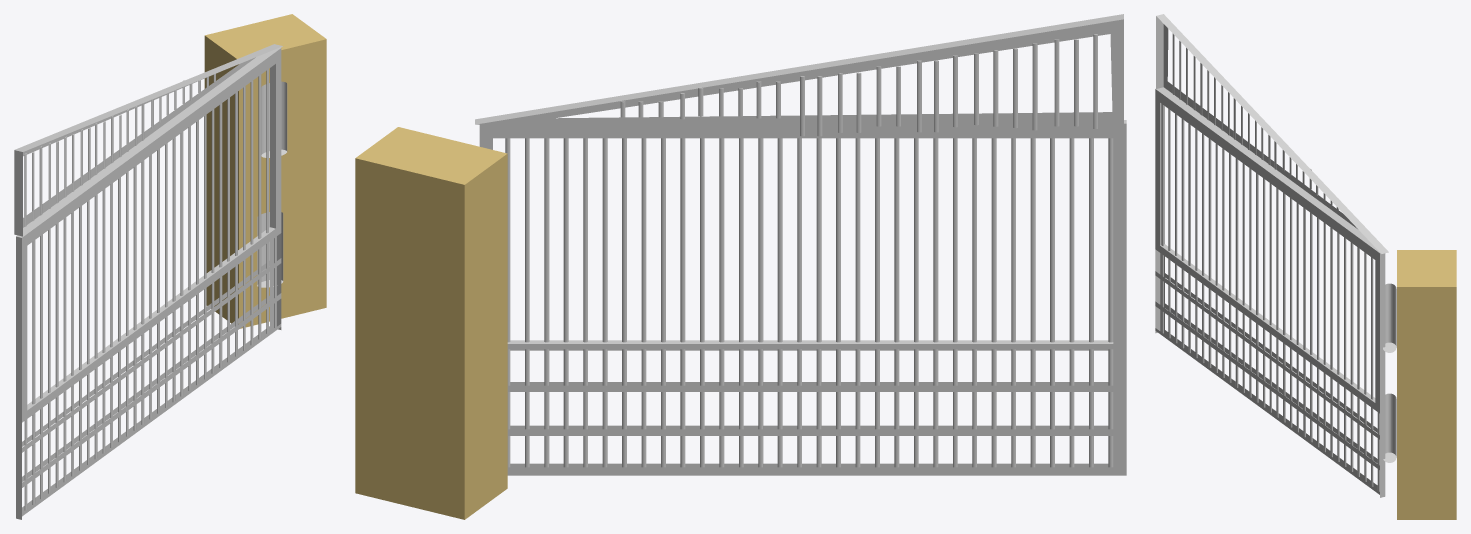
The model's file is GATE THOMSON.glb.
3 views of the same model, side by side, from view 1: azimuth 30°, elevation 25°; view 2: azimuth 150°, elevation 25°; view 3: azimuth 270°, elevation 25° (orthographic). The views are drawn at different scales.
Visible parts, largest first — view 1: Plane.008, Cube.005; view 2: Plane.008, Cube.005; view 3: Plane.008, Cube.005.
Part boxes in pixels (left/top/right/bottom): Plane.008: left=14, top=44, right=282, bottom=519; Cube.005: left=204, top=14, right=326, bottom=328; Plane.008: left=475, top=14, right=1126, bottom=475; Cube.005: left=355, top=127, right=507, bottom=519; Plane.008: left=1155, top=14, right=1388, bottom=497; Cube.005: left=1383, top=250, right=1456, bottom=519.
Size of the model in its own units: 2.79 by 2.19 by 1.88.
